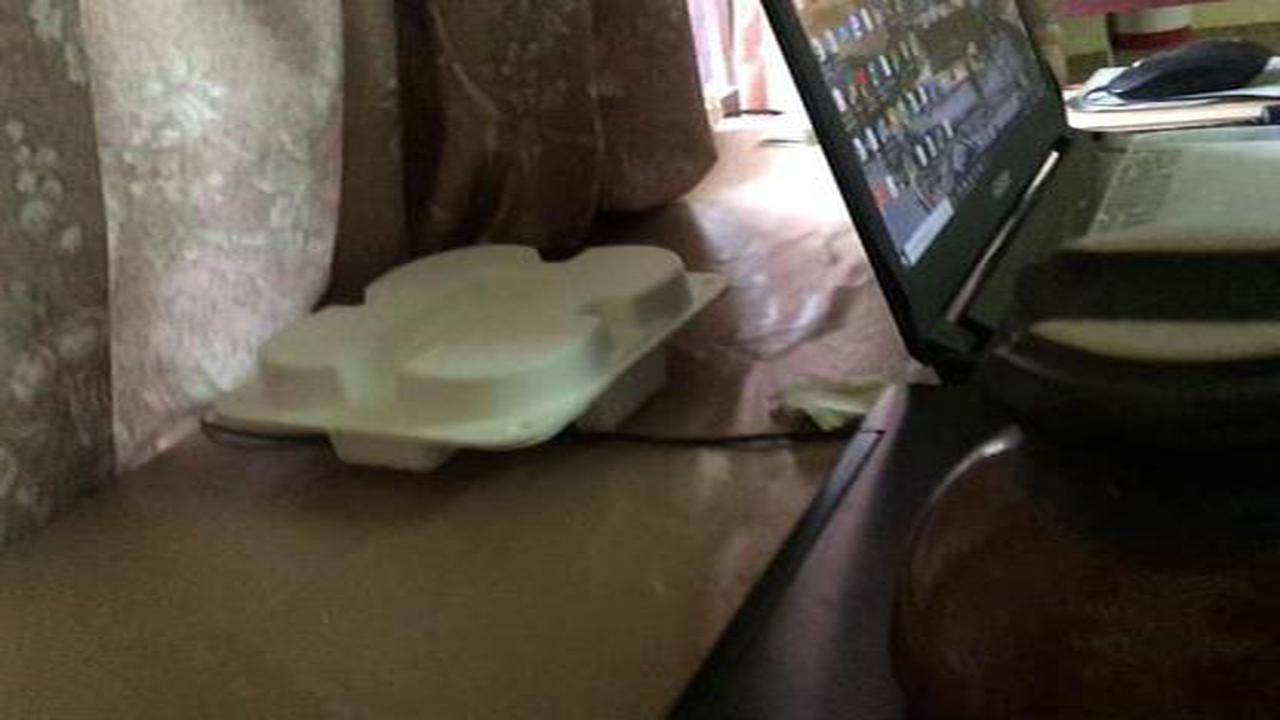insulator_pin: (871, 213, 1274, 715)
